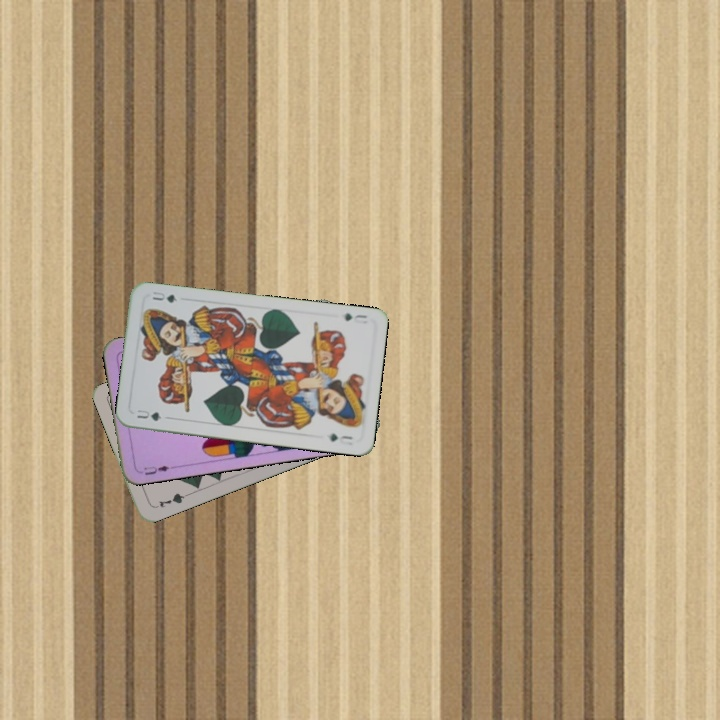EU: (139, 462, 176, 477)
G7: (155, 489, 189, 510)
GU: (133, 405, 165, 424), (340, 309, 370, 325)
